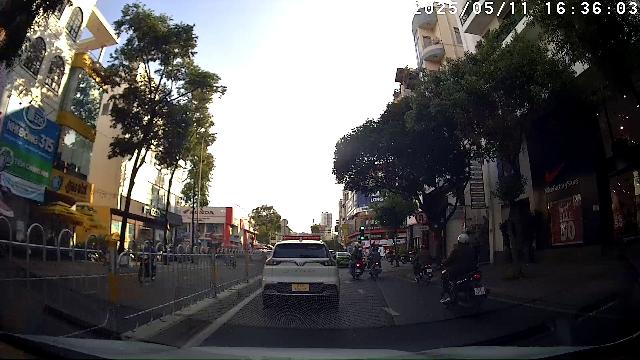124b-cam-oto-quay-dau-xe: (416, 211, 428, 225)
